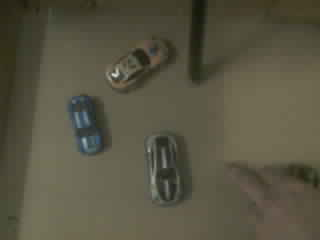Car: (105, 37, 169, 92), (144, 131, 184, 206), (68, 94, 110, 155)
